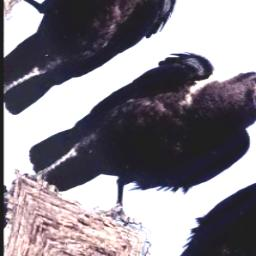Crow: (15, 5, 256, 256)
